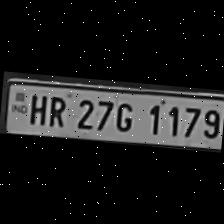1: (138, 100, 164, 136), (162, 102, 182, 138)
2: (68, 94, 96, 131)
7: (177, 104, 200, 140), (91, 96, 113, 132)
9: (198, 106, 223, 140)
G: (110, 99, 137, 134)
H: (25, 91, 47, 126)
R: (42, 92, 68, 128)
